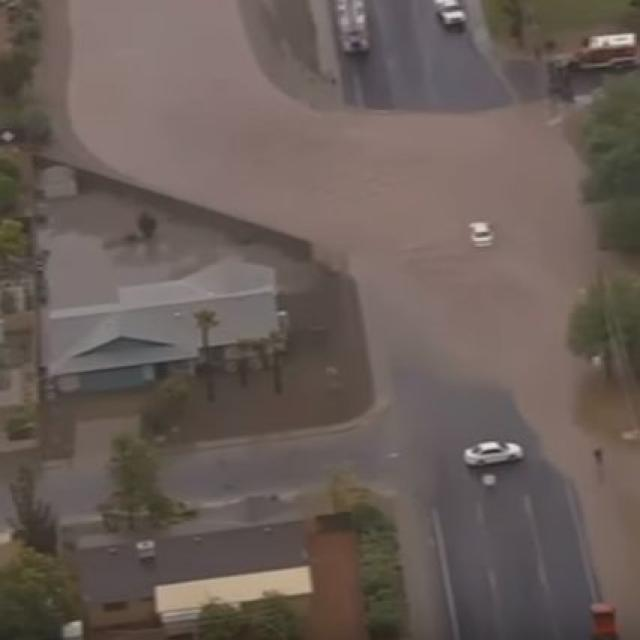flooded_areas: (66, 11, 625, 390)
